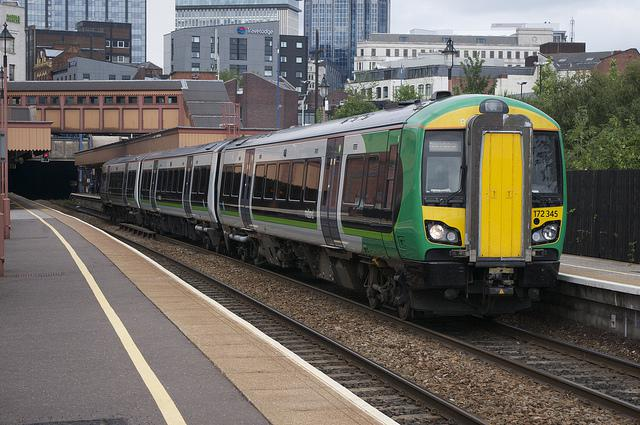Train: (83, 88, 567, 328)
